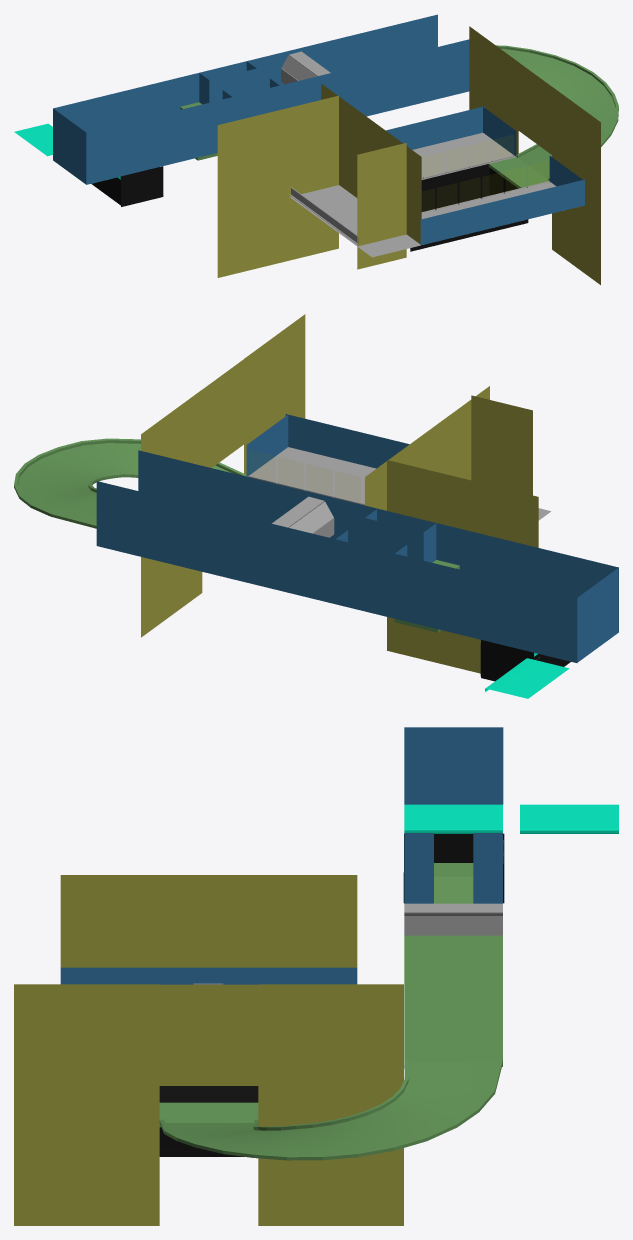
Rendered from TutorialLevelV2_1.fbx.
The picture shows the model from 3 angles, top to bottom: view 1: azimuth 30°, elevation 25°; view 2: azimuth 150°, elevation 25°; view 3: azimuth 270°, elevation 25°; orthographic projection. The views are drawn at different scales.
Parts seen in each view (by area): view 1: MeshV2_1; view 2: MeshV2_1; view 3: MeshV2_1.
Boxes of the visible parts, left/top/right/bottom form: MeshV2_1: left=14, top=14, right=618, bottom=284; MeshV2_1: left=14, top=314, right=618, bottom=698; MeshV2_1: left=14, top=727, right=618, bottom=1225.
Bounding box in the file's own units: 85.19 × 26.95 × 61.19.
Materials: 7 (1 with a texture image).
